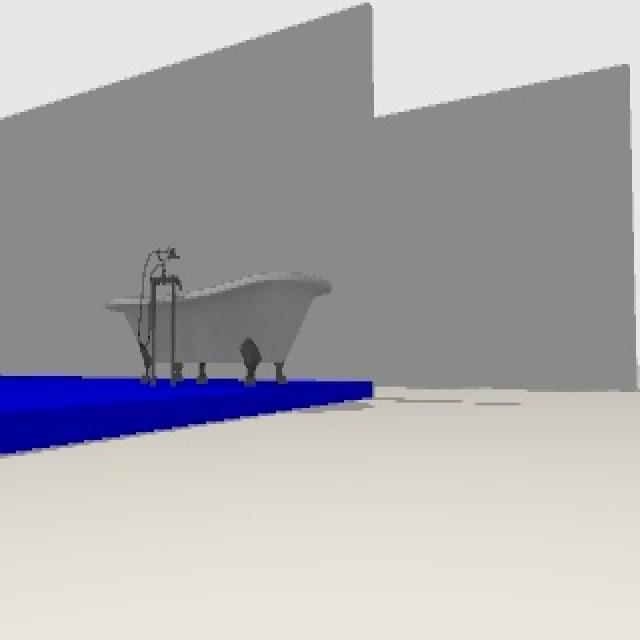bathtub: (106, 242, 340, 386)
